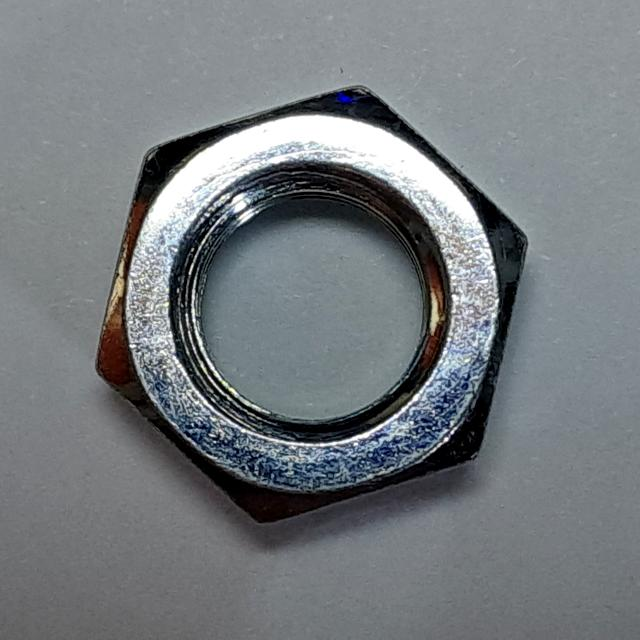Excellent: (83, 66, 548, 539)
